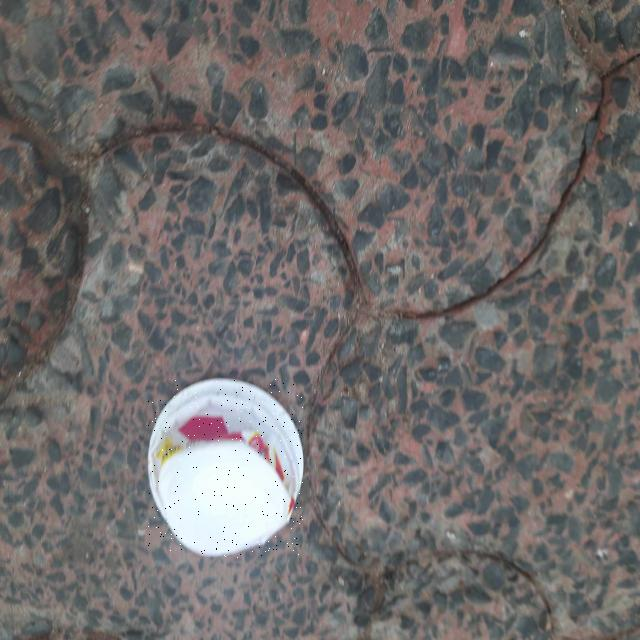plastic: (148, 379, 303, 557)
